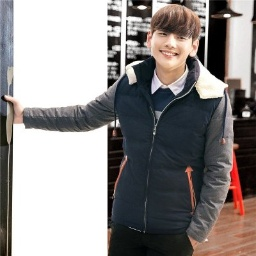face: (148, 5, 200, 69)
